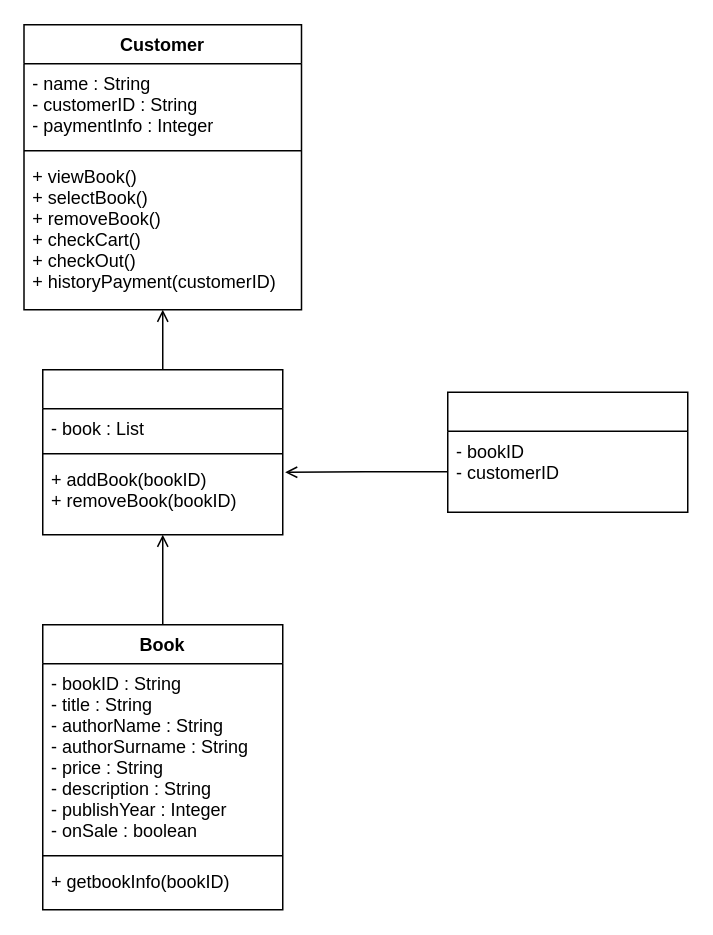
Image size: 713x935. Some labels were removed from this diagram. The shapes that lost their labels are listed below. From the top down, each one's box as (x1, y1, x2, y2) in pixels, then its label:
(41, 368, 283, 535): Cart
(446, 391, 688, 512): Database
